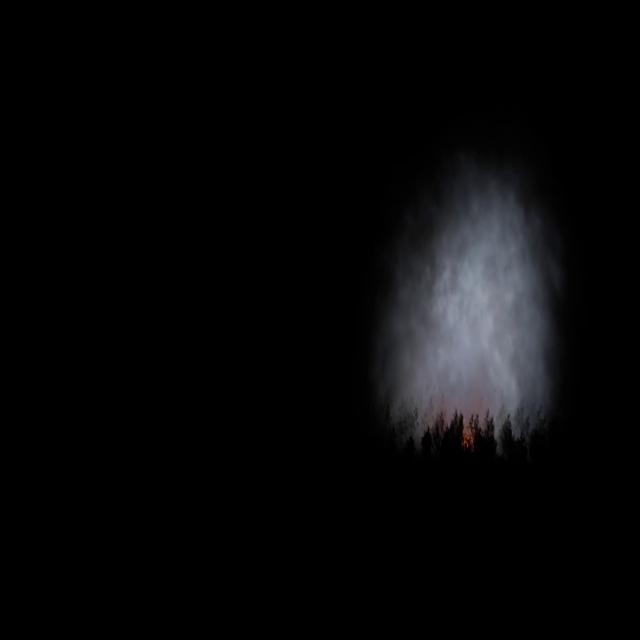smoke: (374, 152, 566, 444)
